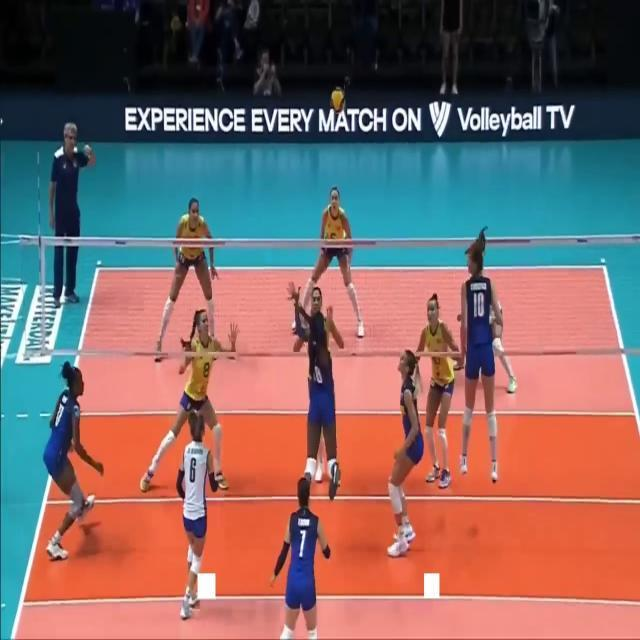volleyball: (330, 87, 344, 113)
